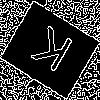K: (24, 25, 76, 82)
